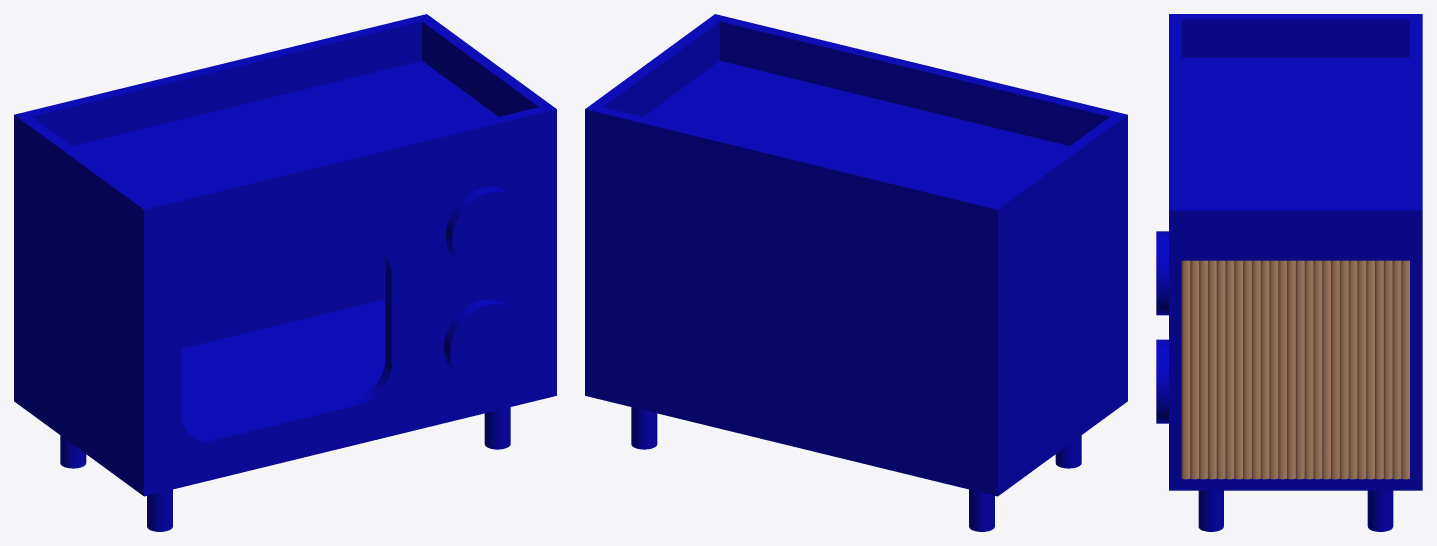
3 views of the same model, side by side, from view 1: azimuth 30°, elevation 25°; view 2: azimuth 150°, elevation 25°; view 3: azimuth 270°, elevation 25° (orthographic). The views are drawn at different scales.
Visible parts, largest first — view 1: 205895; view 2: 205895; view 3: 205895, 204190, 204204, 204196, 204195, 204201, 204206, 204200, 204209, 204205, 204210, 204191 (+15 smaller).
Part boxes in pixels (x1,y1,x2,y2): 205895: (14, 14, 556, 531); 205895: (585, 14, 1127, 531); 205895: (1156, 14, 1422, 531); 204190: (1216, 260, 1225, 479); 204204: (1339, 260, 1348, 479); 204196: (1269, 260, 1278, 479); 204195: (1260, 260, 1269, 479); 204201: (1313, 260, 1322, 479); 204206: (1357, 260, 1366, 479); 204200: (1304, 260, 1313, 479); 204209: (1383, 260, 1392, 479); 204205: (1348, 260, 1357, 479); 204210: (1392, 260, 1401, 479); 204191: (1225, 260, 1234, 479).
Bounding box in the file's own units: 0.55 × 0.435 × 0.315.
